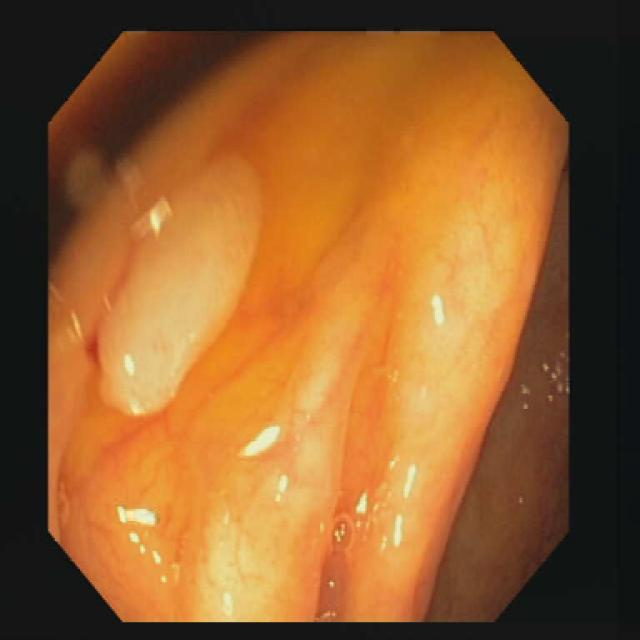tumor: (98, 164, 260, 413)
